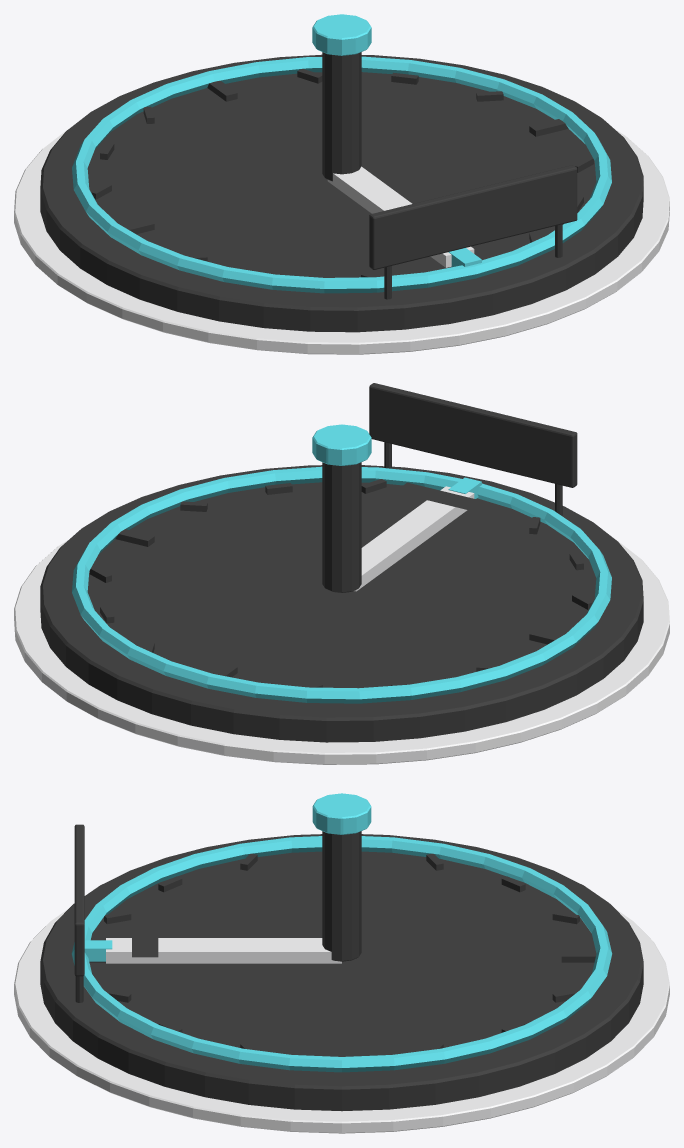
The model's file is compass.glb.
The picture shows the model from 3 angles, top to bottom: view 1: azimuth 30°, elevation 25°; view 2: azimuth 150°, elevation 25°; view 3: azimuth 270°, elevation 25°; orthographic projection.
Visible parts, largest first — view 1: base, base_step, dial_ring, sign_board, spindle, sign_back, arm_blade_01, finial; view 2: base, base_step, dial_ring, sign_back, spindle, arm_blade_01, finial, mark_01; view 3: base, base_step, dial_ring, arm_blade_01, spindle, finial, sign_back, mark_01, arm_tip_01.
Boxes of the visible parts, <box> form: base: <box>40,54,643,332</box>; base_step: <box>14,128,669,354</box>; dial_ring: <box>72,56,611,293</box>; sign_board: <box>379,175,572,263</box>; spindle: <box>322,52,361,181</box>; sign_back: <box>369,165,577,269</box>; arm_blade_01: <box>327,166,474,267</box>; finial: <box>312,14,371,55</box>; base: <box>40,465,643,742</box>; base_step: <box>14,539,669,764</box>; dial_ring: <box>72,466,611,703</box>; sign_back: <box>369,383,577,487</box>; spindle: <box>322,462,361,592</box>; arm_blade_01: <box>354,486,474,591</box>; finial: <box>312,424,371,465</box>; mark_01: <box>394,482,486,511</box>; base: <box>40,834,643,1111</box>; base_step: <box>14,909,669,1133</box>; dial_ring: <box>71,836,612,1072</box>; arm_blade_01: <box>106,938,341,963</box>; spindle: <box>322,831,361,961</box>; finial: <box>312,793,371,834</box>; sign_back: <box>74,824,84,976</box>; mark_01: <box>132,918,158,957</box>; arm_tip_01: <box>84,940,112,961</box>.
Bounding box in the file's own units: 10 × 3.2 × 10.
